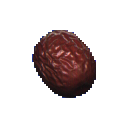gd: (20, 16, 117, 116)
